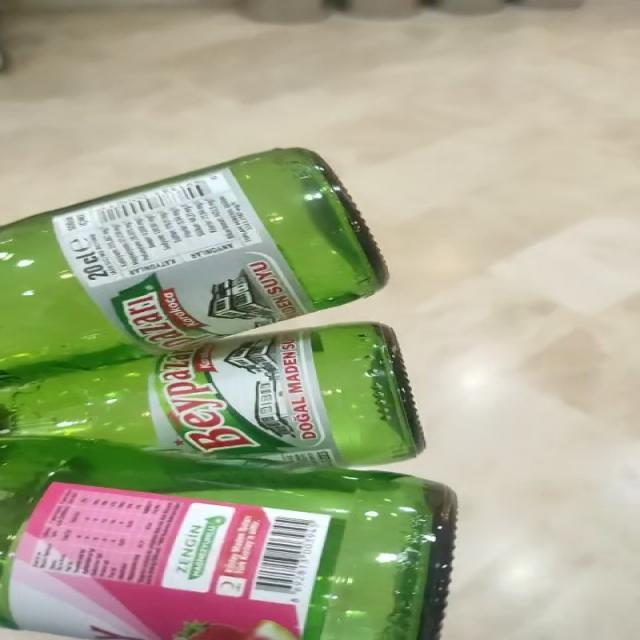Glass: (1, 148, 455, 640)
